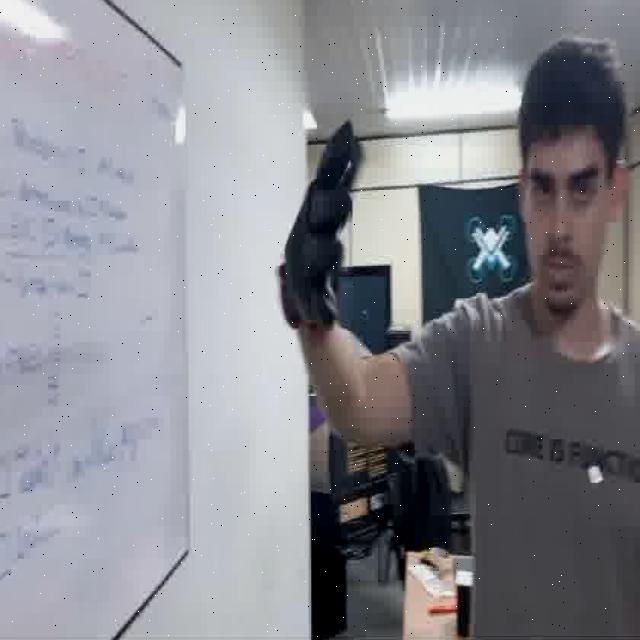Gloves: (269, 117, 368, 343)
